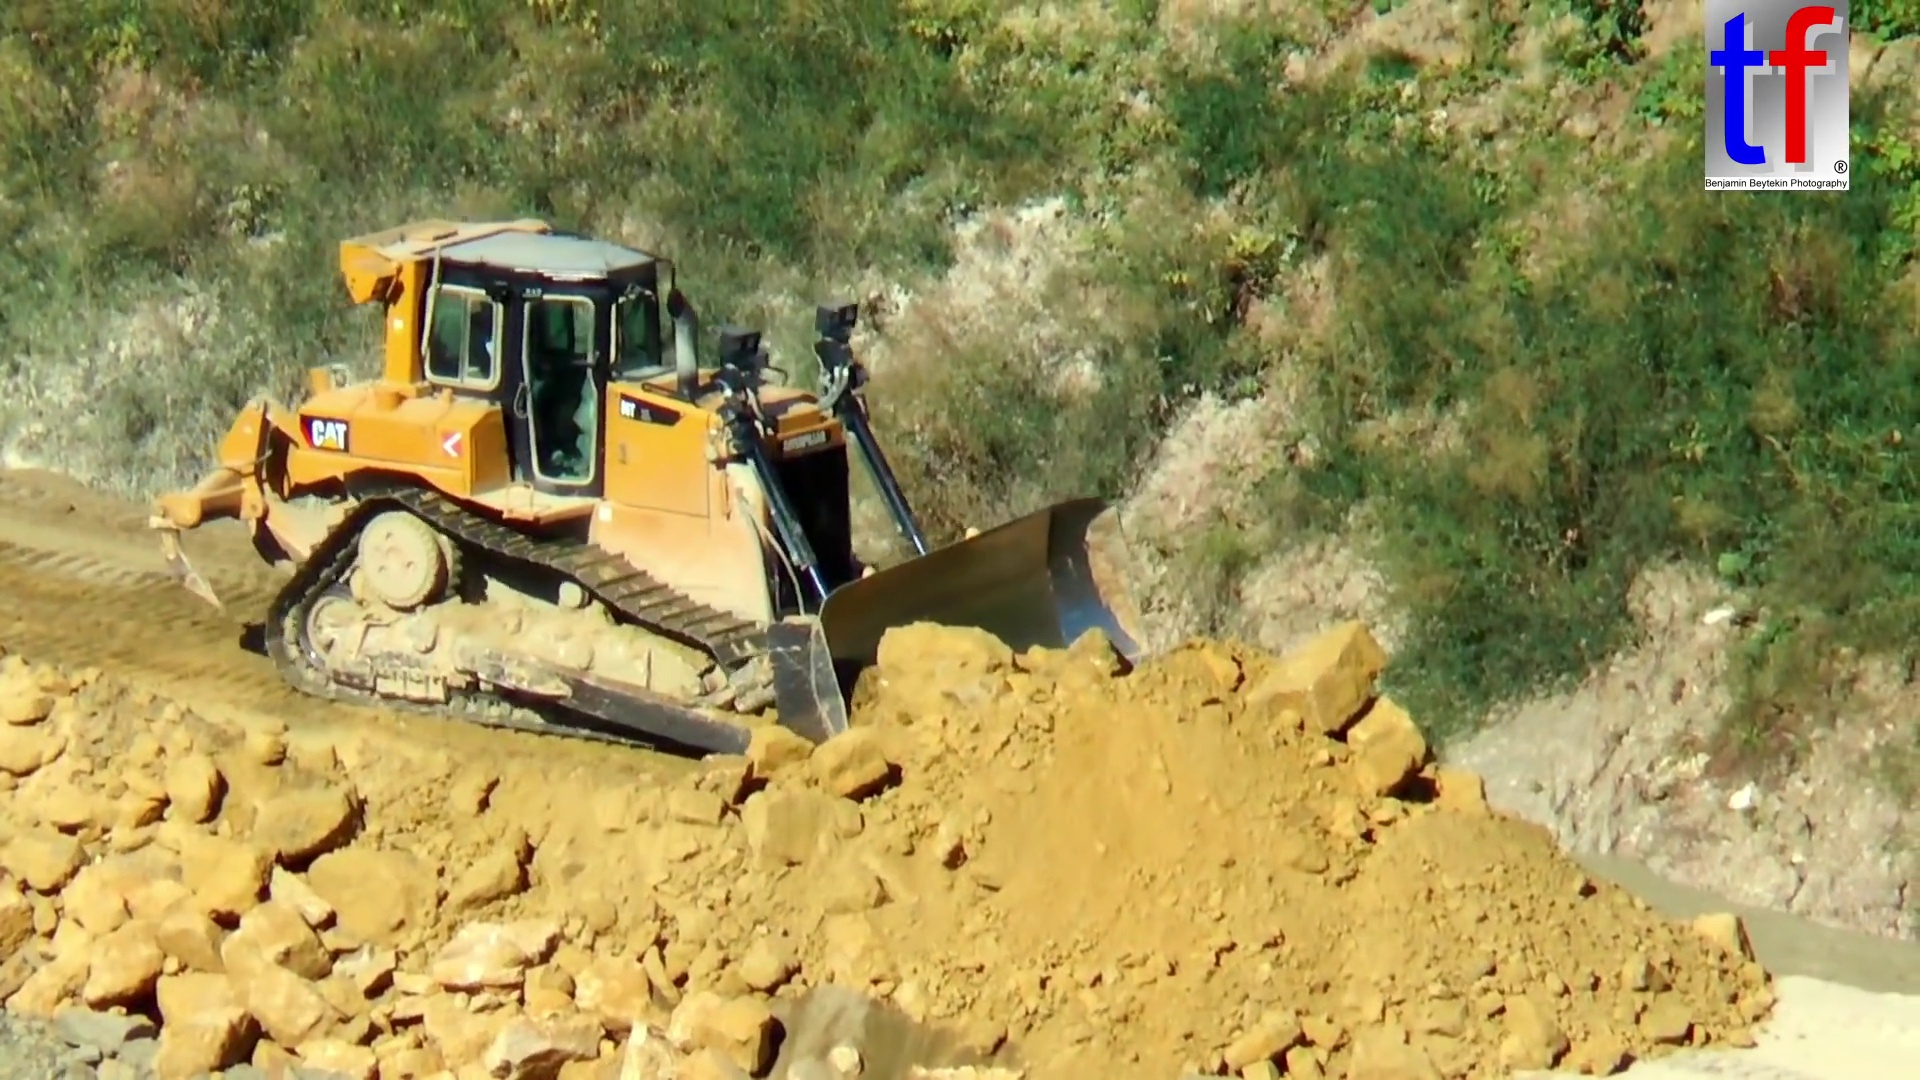bulldozer: (144, 219, 1156, 806)
